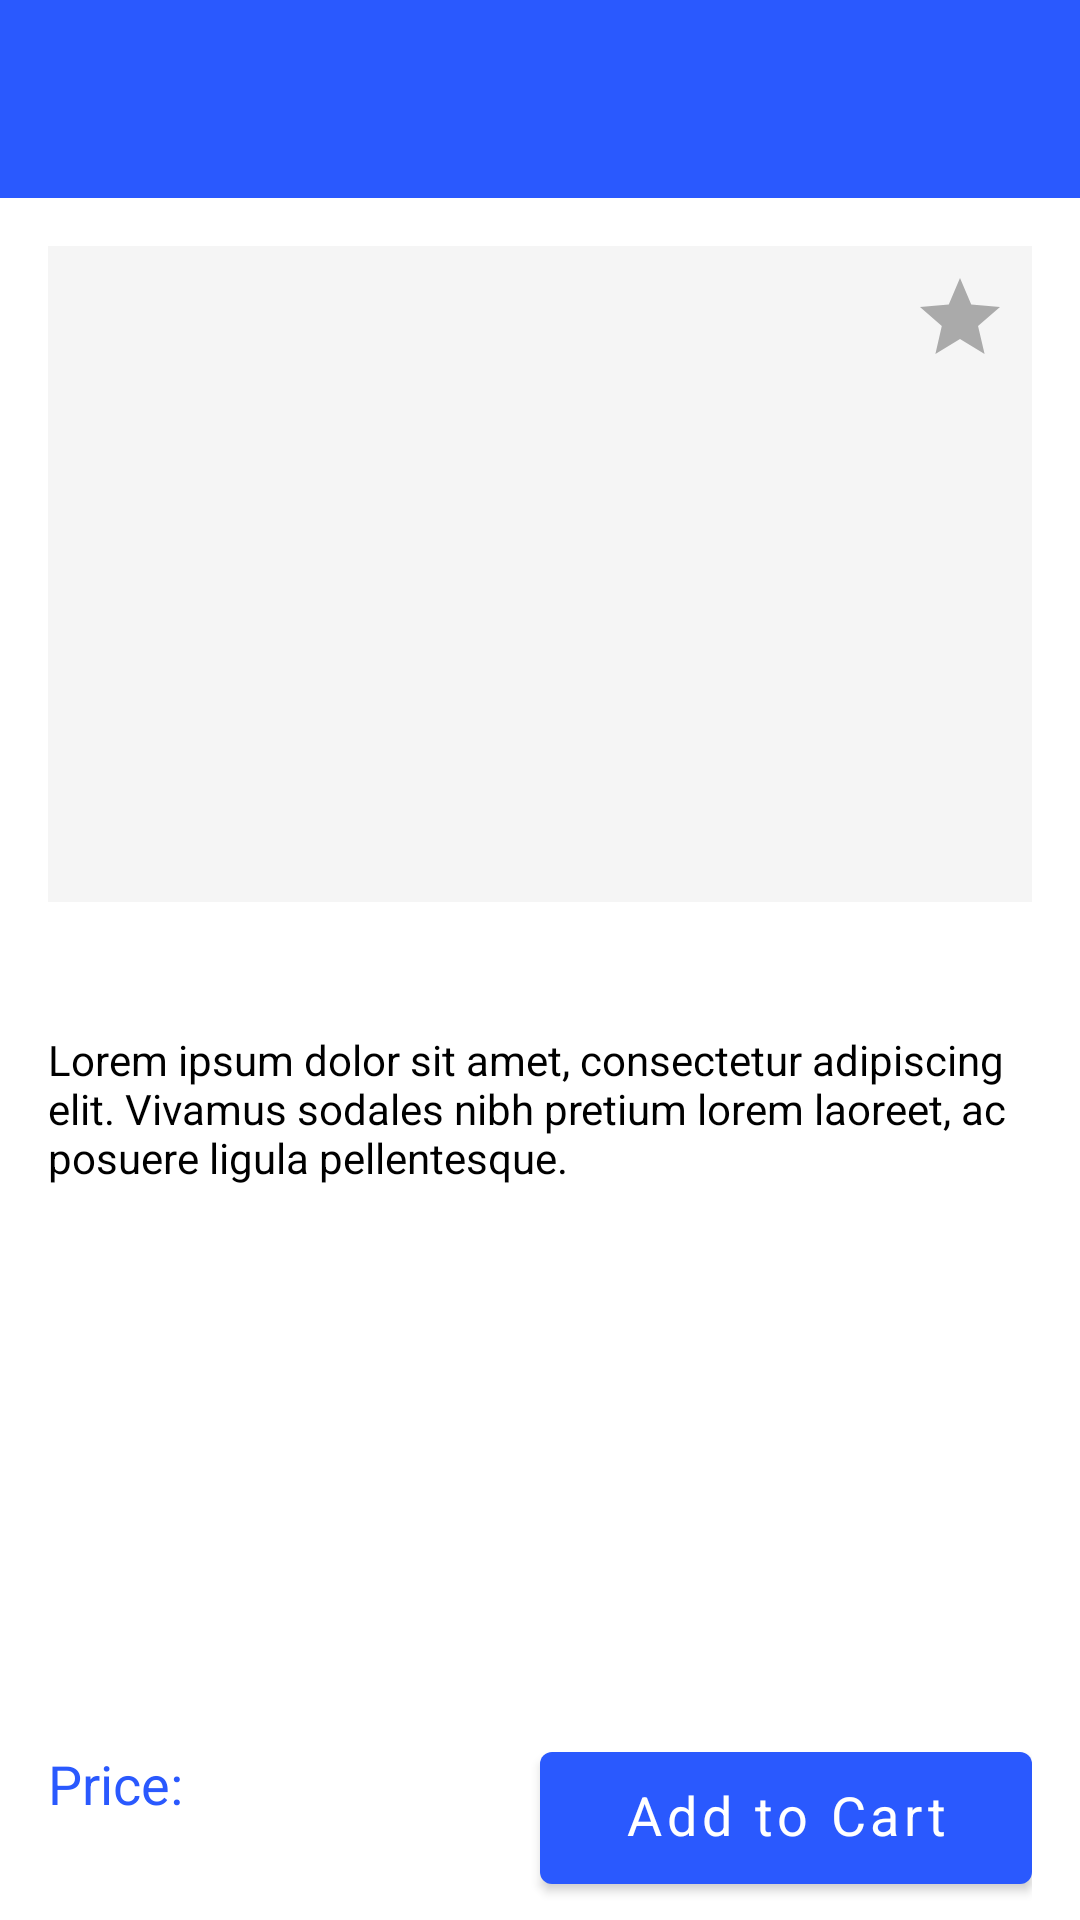

Screen size 1080px x 1920px. Icon name, then its center in pixels as (x,y):
star: (960,316)
